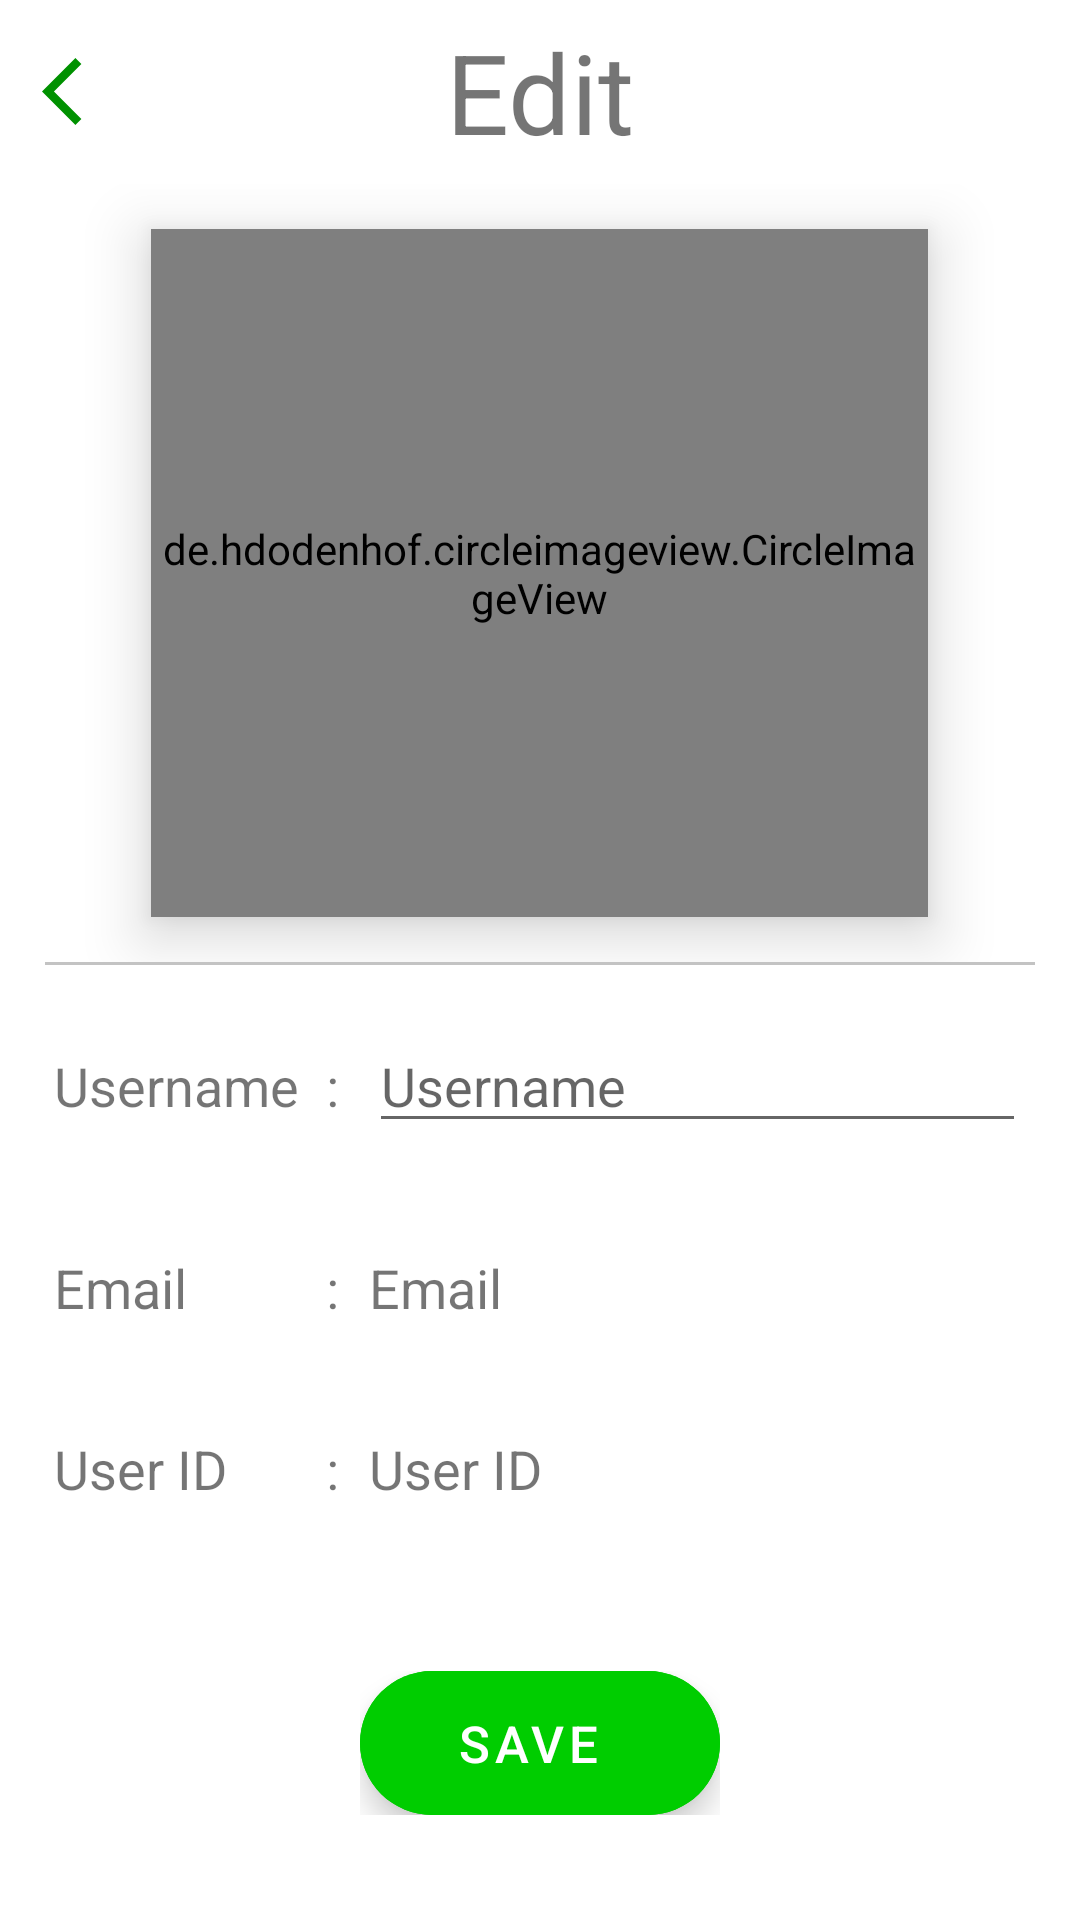

Icon bounding boxes for this 1080x1920 phone screenshot, format (x1, y1, x2, y2):
arrow back: (42, 58, 81, 125)
